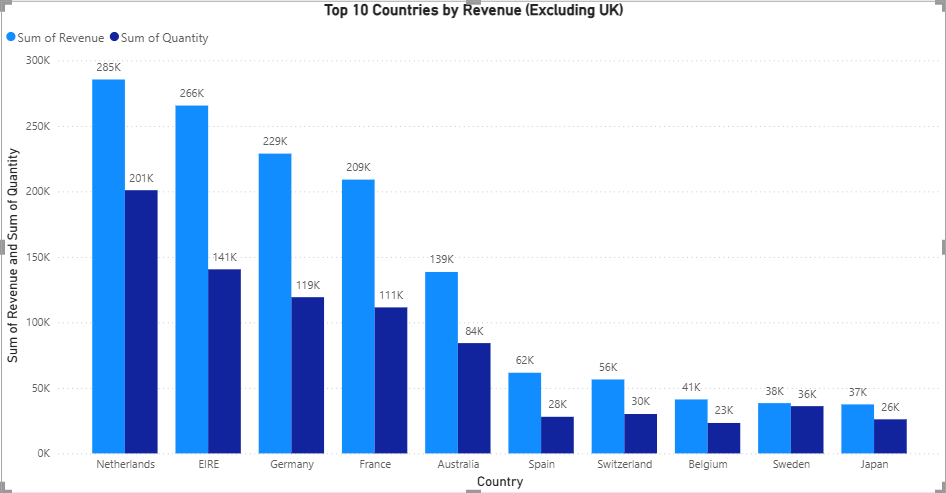

The dashboard page shown, as its layout file describes it:
{"tool":"powerbi","page":{"name":"Question 2","canvas":[1280,720],"ordinal":1},"visuals":[{"type":"clusteredColumnChart","title":"Top 10 Countries by Revenue (Excluding UK)","fields":{"Category":["Online Retail.Country"],"Y":["Sum(Online Retail.Revenue)","Sum(Online Retail.Quantity)"]},"box":[115.3,75.5,1037.4,540.7],"z":0},{"type":"textbox","box":[115.3,616.1,1048.4,90.6],"z":1000}]}

Visuals, with their boxes on the page's 1280x720 design canvas (x1, y1, x2, y2). These are canvas units, not pixel positions in the 946x493 screenshot, which may show the page scaled, cropped or inside an application window:
"Top 10 Countries by Revenue (Excluding UK)" clusteredColumnChart: (x1=115, y1=76, x2=1153, y2=616)
textbox: (x1=115, y1=616, x2=1164, y2=707)
